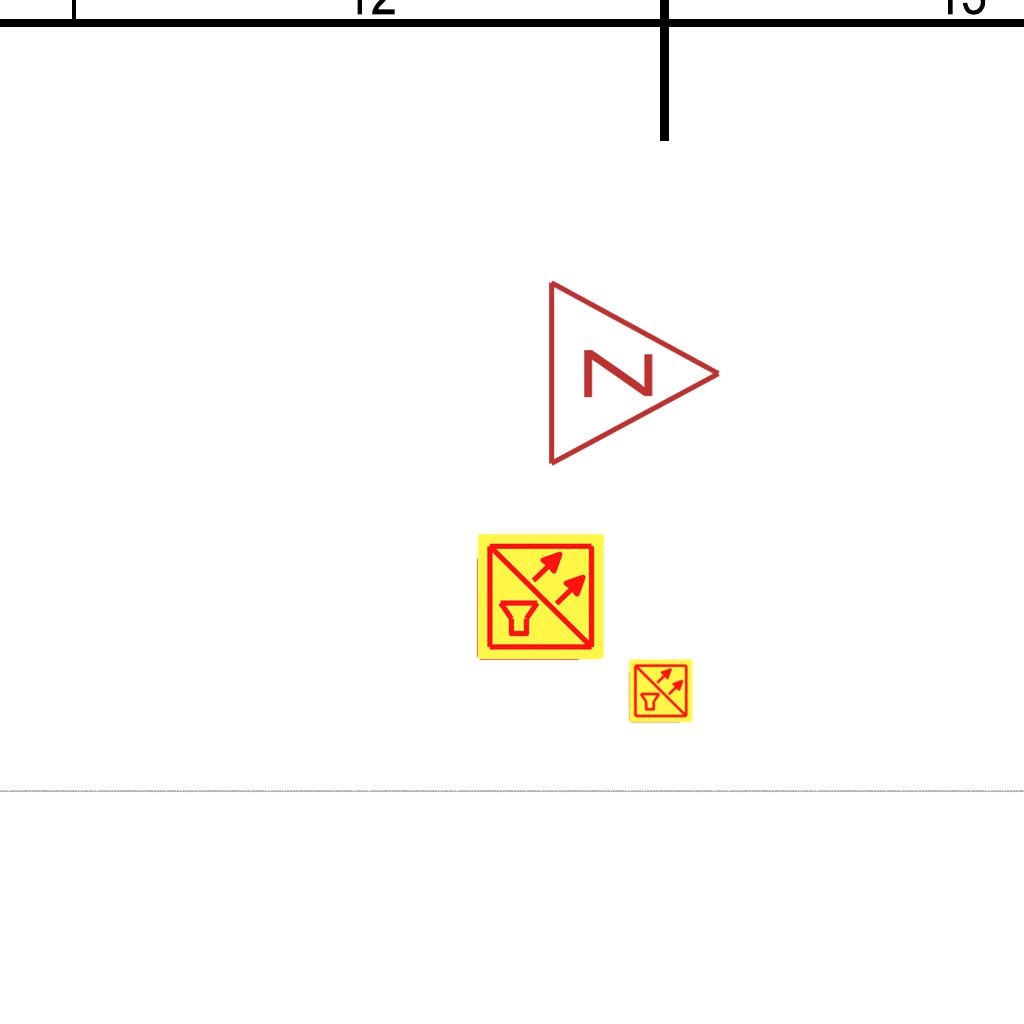OKW_Multisensormelder_(Kombination_optischer_Rauch-Kahlenmonoxid_Waerme-Melder): (475, 531, 607, 663), (628, 658, 694, 724)
Zimmersignalleuchte: (534, 273, 734, 469)
